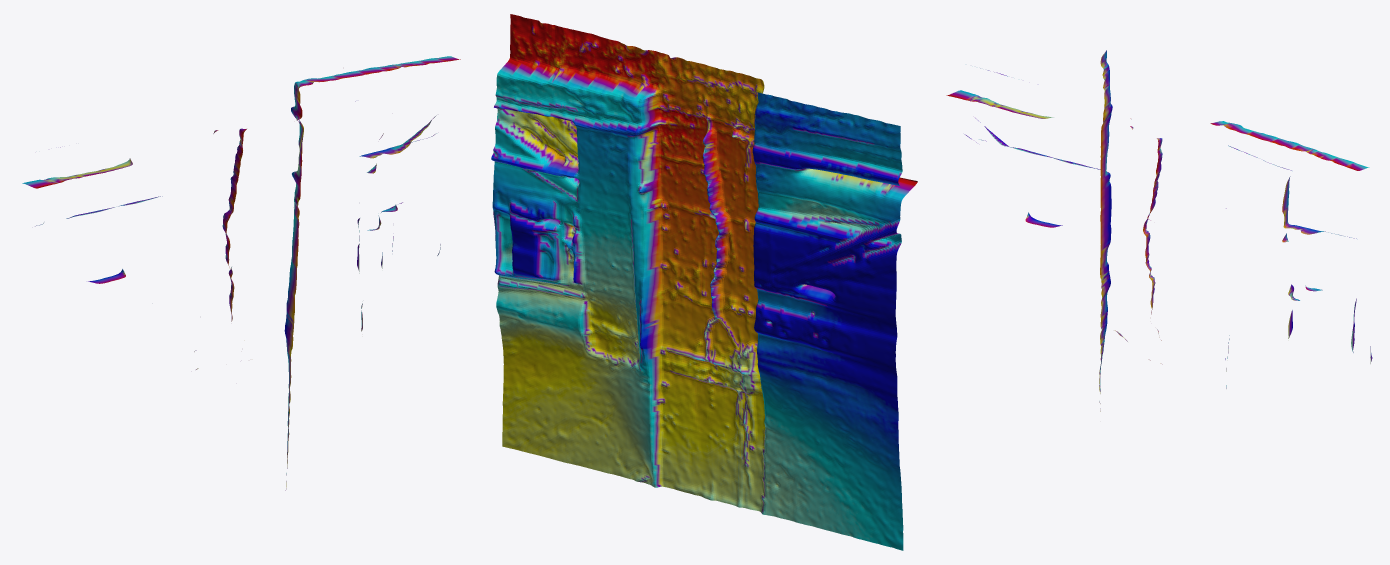
The picture shows the model from 3 angles, left to right: view 1: azimuth 30°, elevation 25°; view 2: azimuth 150°, elevation 25°; view 3: azimuth 330°, elevation 25°; orthographic projection. The views are drawn at different scales.
Parts seen in each view (by area): view 1: world; view 2: world; view 3: world.
Boxes of the visible parts, box(x1,y1,x2,y2) form: world: box(22, 56, 460, 490); world: box(491, 14, 917, 550); world: box(946, 50, 1372, 411).
Bounding box in the file's own units: 299 × 299 × 29.
